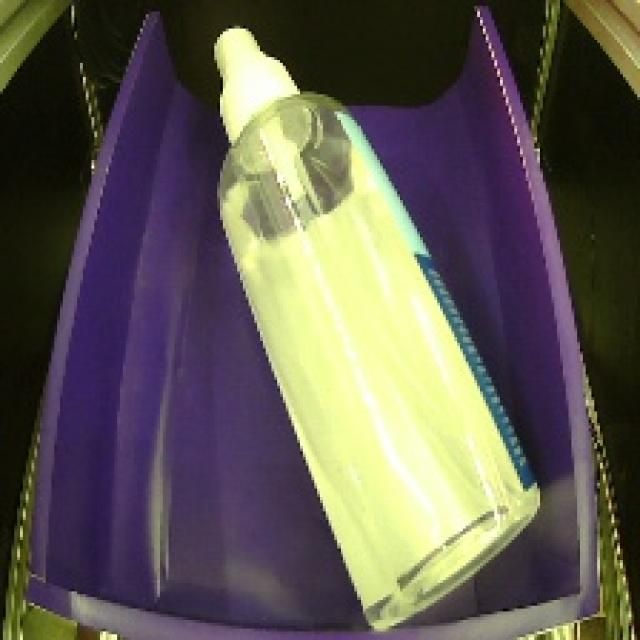plastic: (177, 19, 554, 640)
